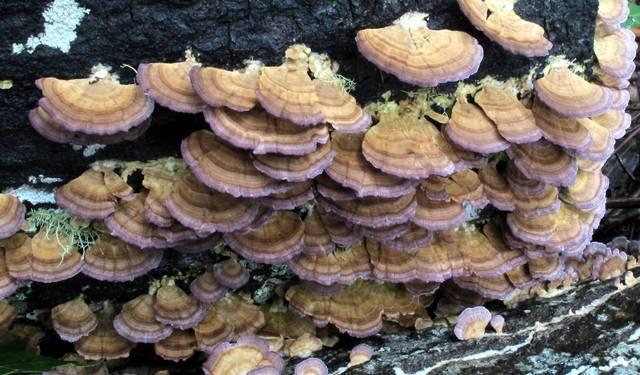poisonous_mushroom: (2, 0, 640, 375), (27, 64, 154, 146), (353, 9, 484, 88)
